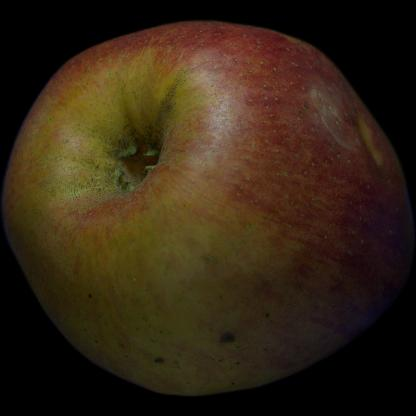defect: (300, 60, 396, 186)
